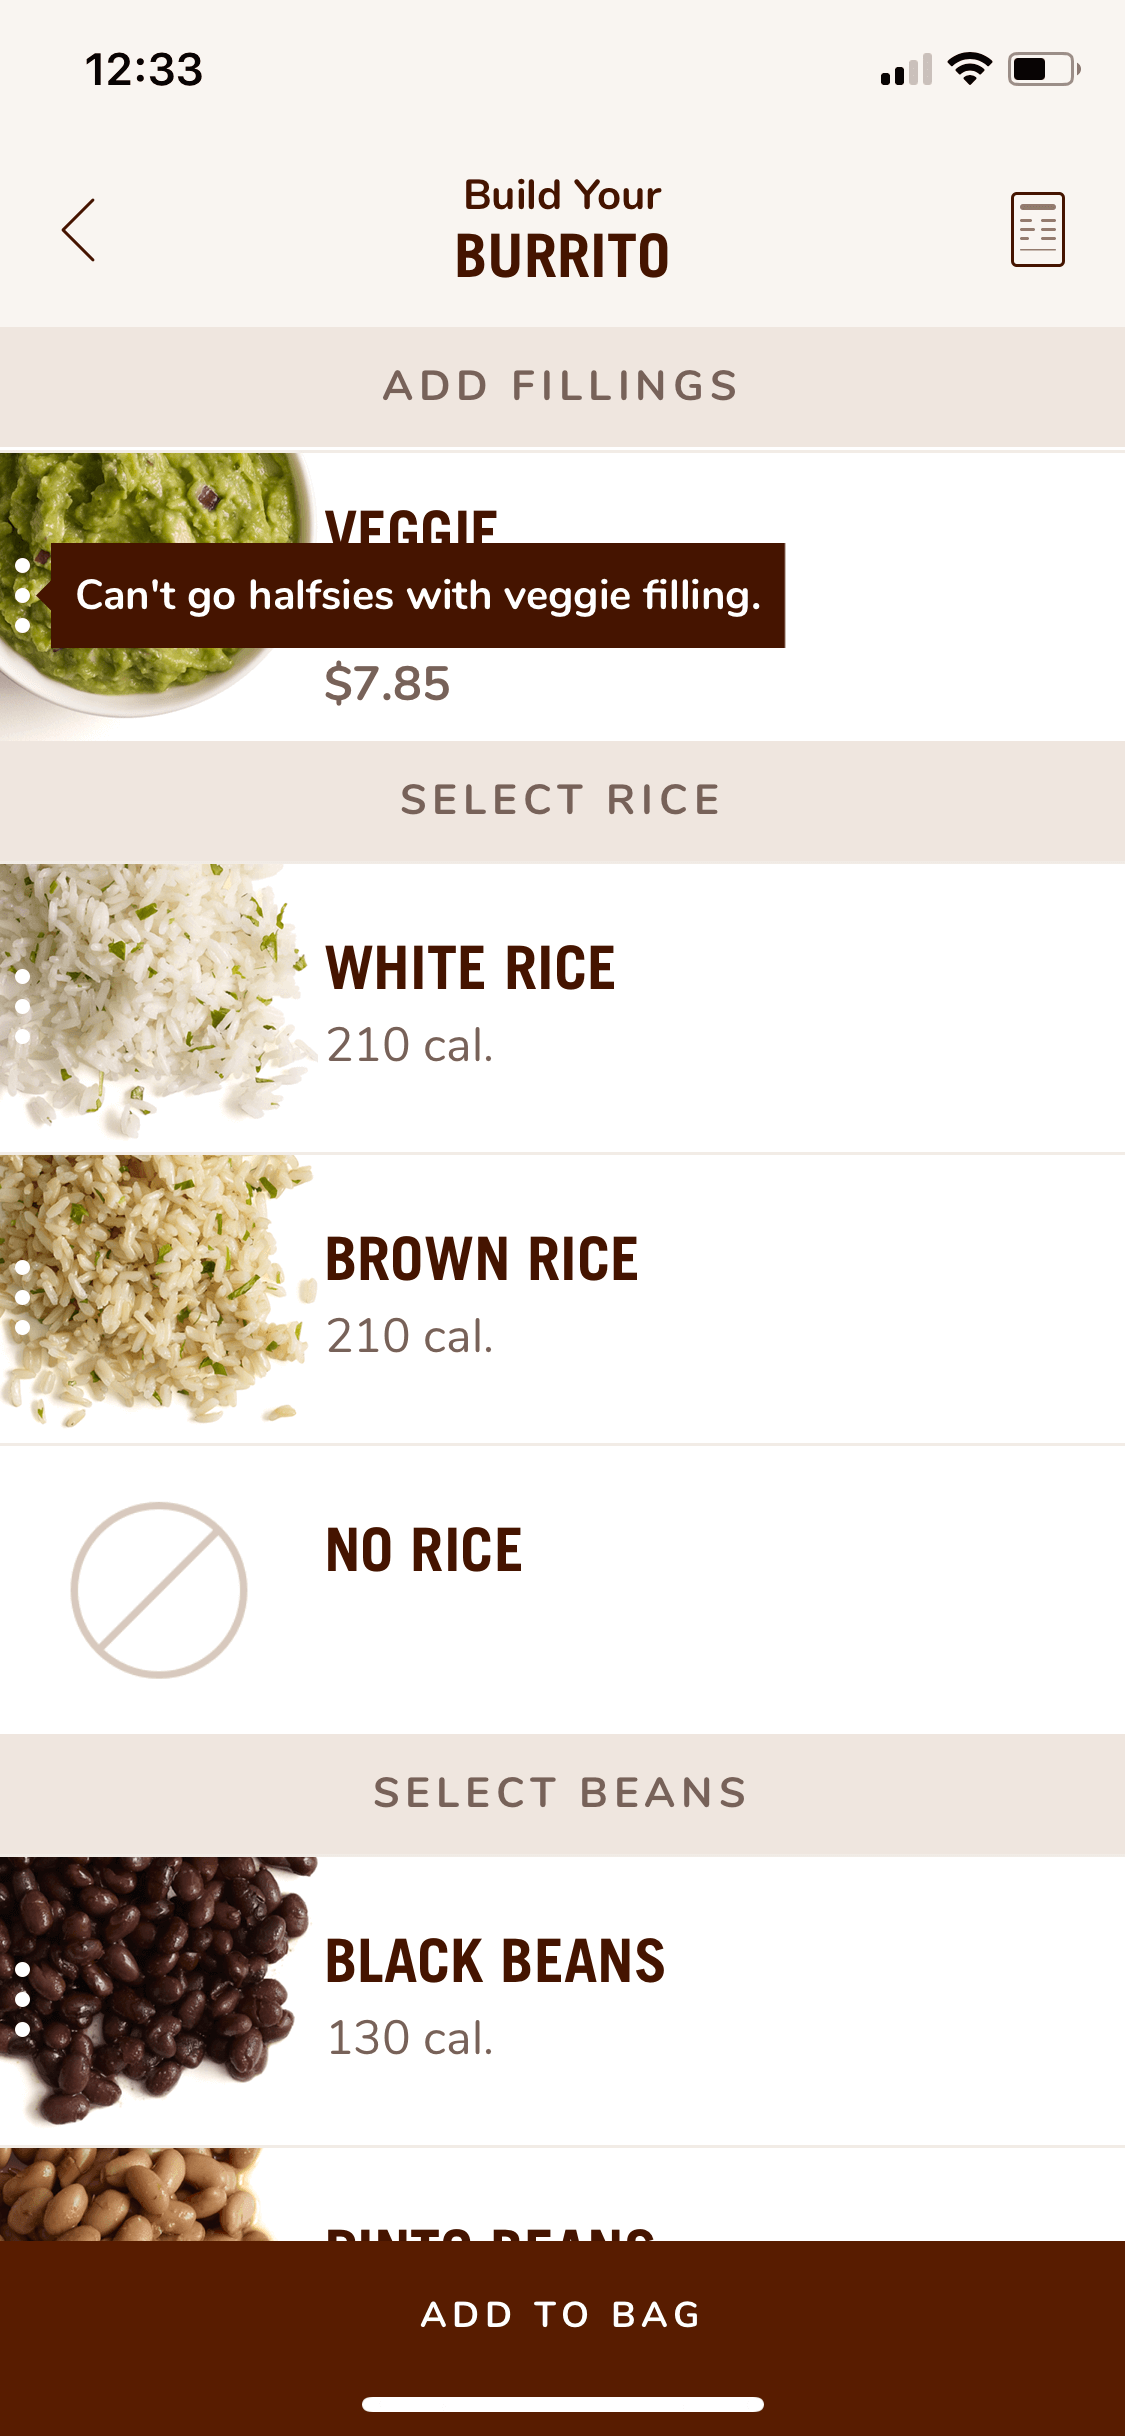Buttons: (2, 2228, 1125, 2383), (956, 165, 1094, 297), (19, 165, 152, 295)
